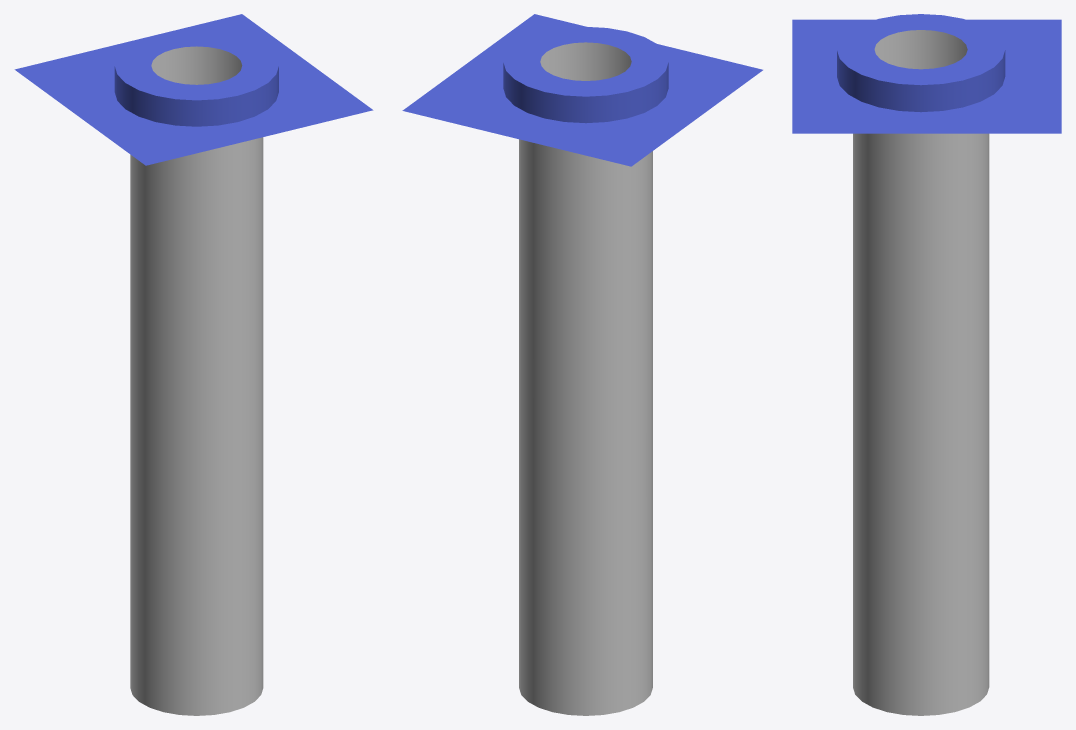
File: model_pillar_big.fbx
3 renders of one model, left to right at view 1: azimuth 30°, elevation 25°; view 2: azimuth 150°, elevation 25°; view 3: azimuth 270°, elevation 25°, orthographic. The views are drawn at different scales.
Parts seen in each view (by area): view 1: Cube.003; view 2: Cube.003; view 3: Cube.003.
Part boxes in pixels (left/top/right/bottom): Cube.003: left=14, top=14, right=373, bottom=715; Cube.003: left=402, top=14, right=762, bottom=715; Cube.003: left=792, top=14, right=1061, bottom=715.
Bounding box in the file's own units: 200 × 522 × 200.
